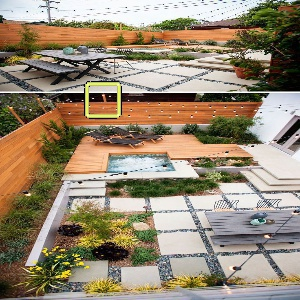square: (82, 79, 124, 119)
